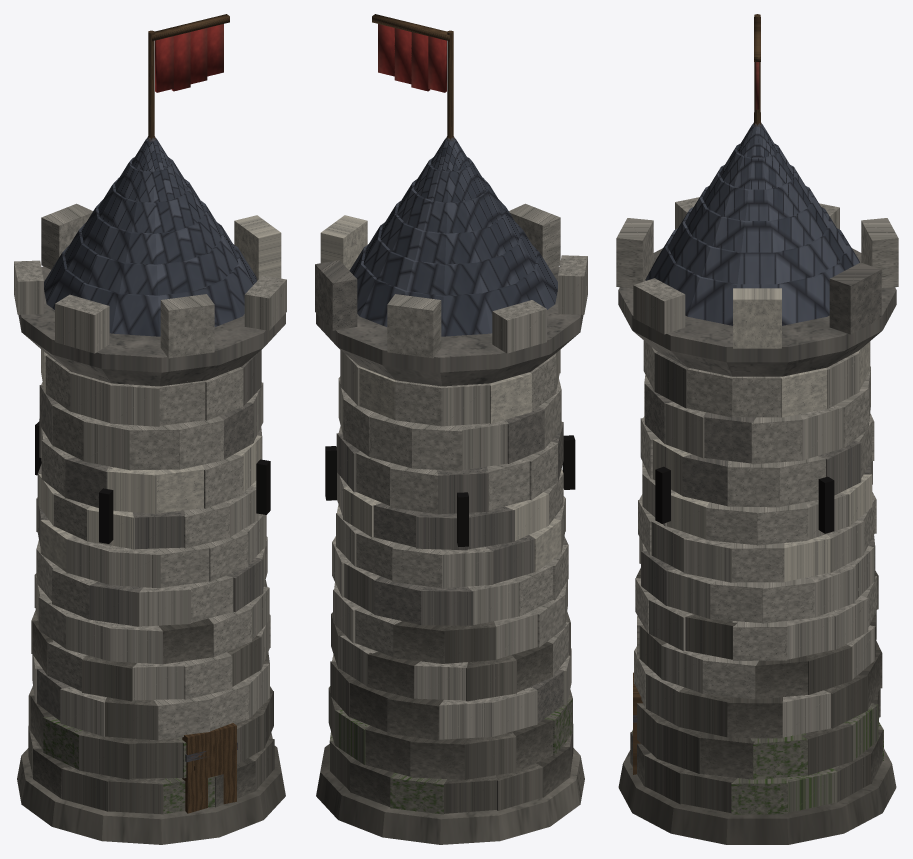
The model's file is fortress_watchtower.obj.
3 renders of one model, left to right at view 1: azimuth 30°, elevation 25°; view 2: azimuth 150°, elevation 25°; view 3: azimuth 270°, elevation 25°, orthographic. The views are drawn at different scales.
Parts seen in each view (by area): view 1: fortress_watchtower; view 2: fortress_watchtower; view 3: fortress_watchtower.
Part boxes in pixels (bbox=[...]): fortress_watchtower: bbox=[14, 14, 286, 844]; fortress_watchtower: bbox=[315, 14, 587, 844]; fortress_watchtower: bbox=[616, 14, 898, 844].
Size of the model in its own units: 1.53 by 4.75 by 1.57.
